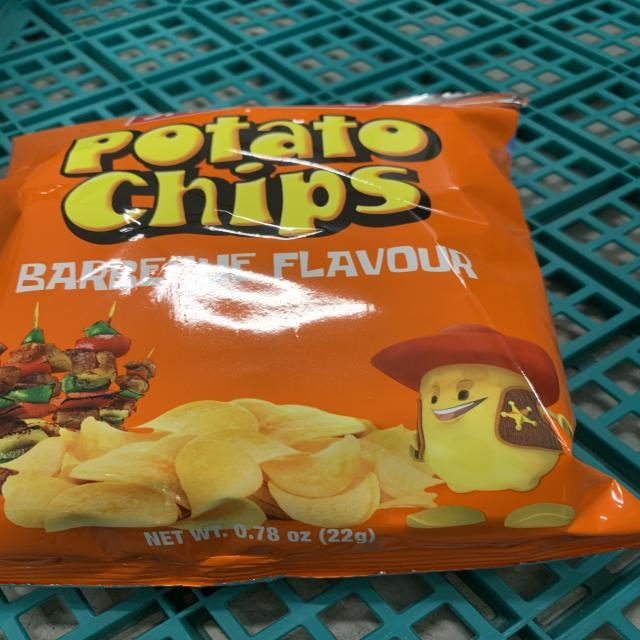object_name: (9, 132, 553, 556)
